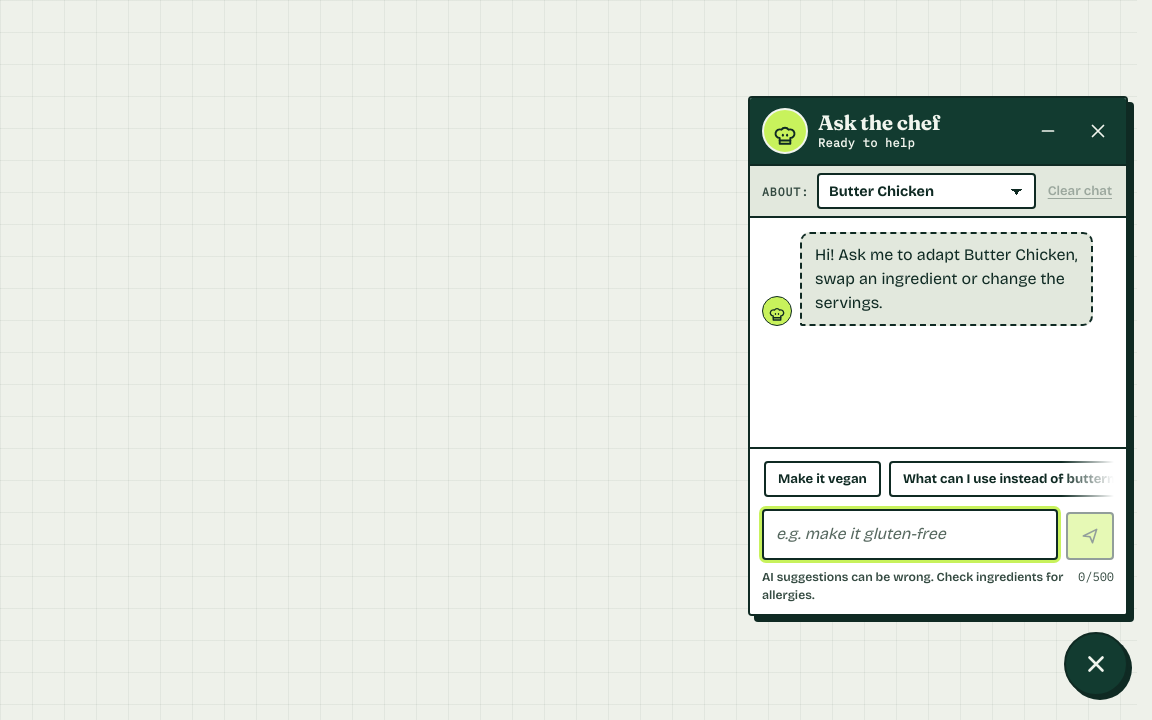
Test: ChatPanel › applies a proposal as a new recipe and links to it
The image size is (1152, 720).
Click the button "Make it vegan" at (822, 479), box left=764, top=461, right=881, bottom=497
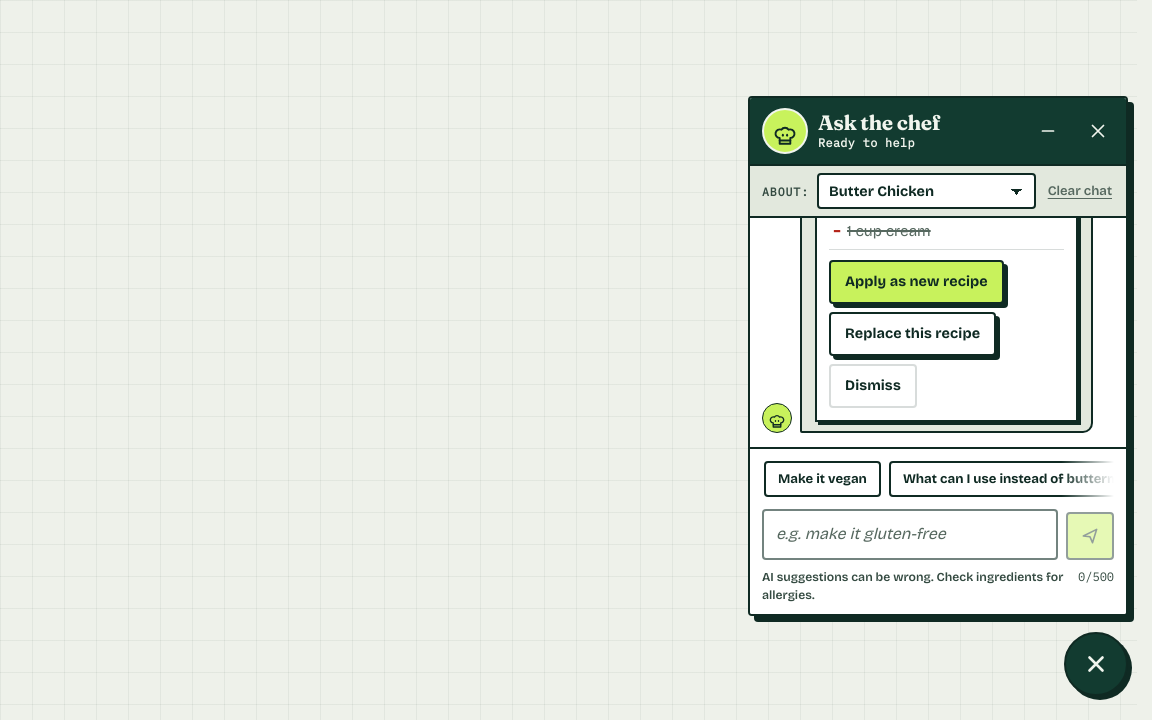
Click the button "Apply as new recipe" at (916, 282), box left=829, top=260, right=1004, bottom=304
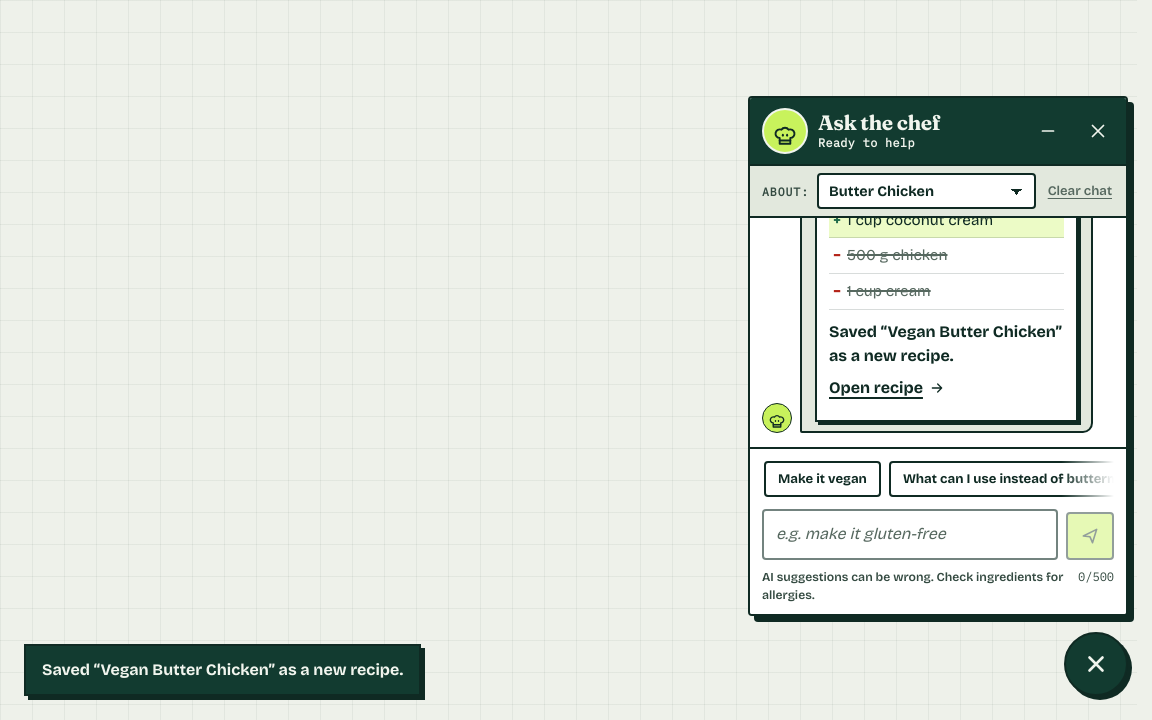
Expected: the button "Apply as new recipe" is gone
